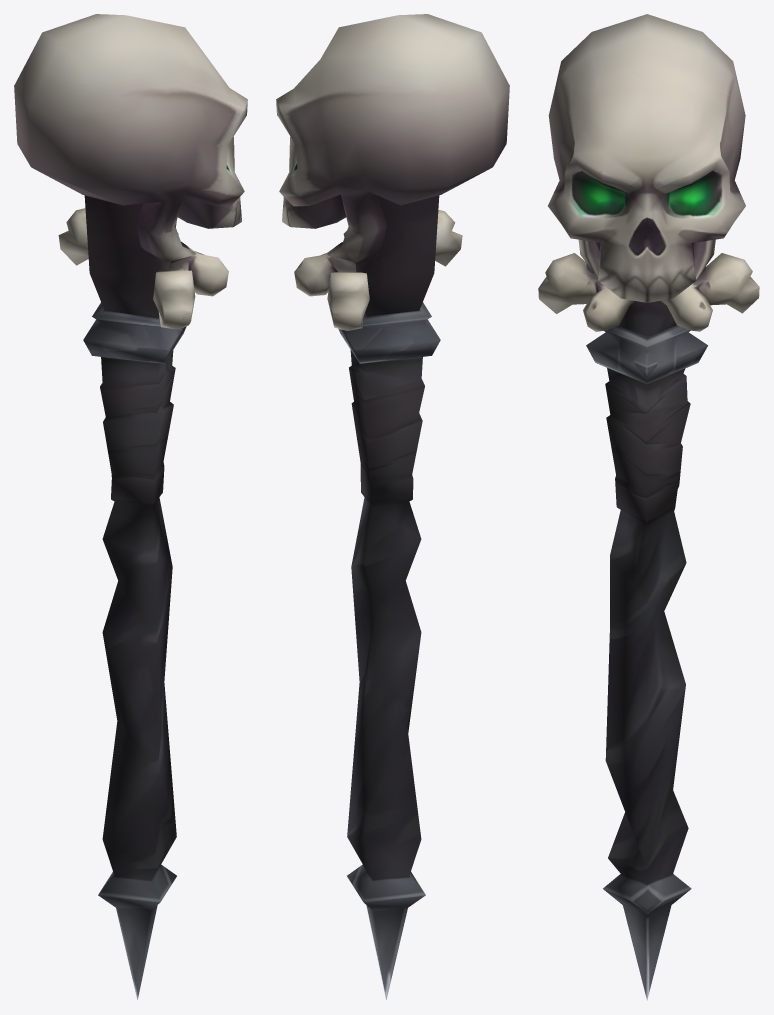
The model's file is staff_skull.glb.
3 views of the same model, side by side, from view 1: azimuth 30°, elevation 25°; view 2: azimuth 150°, elevation 25°; view 3: azimuth 270°, elevation 25° (orthographic). The views are drawn at different scales.
Parts seen in each view (by area): view 1: tripo_node_fb23e6f6-6946-487f-a458-e4bf3291bfab; view 2: tripo_node_fb23e6f6-6946-487f-a458-e4bf3291bfab; view 3: tripo_node_fb23e6f6-6946-487f-a458-e4bf3291bfab.
Part boxes in pixels (x1,y1,x2,y2): tripo_node_fb23e6f6-6946-487f-a458-e4bf3291bfab: (14,14,247,999); tripo_node_fb23e6f6-6946-487f-a458-e4bf3291bfab: (276,14,509,999); tripo_node_fb23e6f6-6946-487f-a458-e4bf3291bfab: (538,14,759,1000).
Bounding box in the file's own units: 0.2192 × 0.9995 × 0.2085.
1 material, 1 textured.
